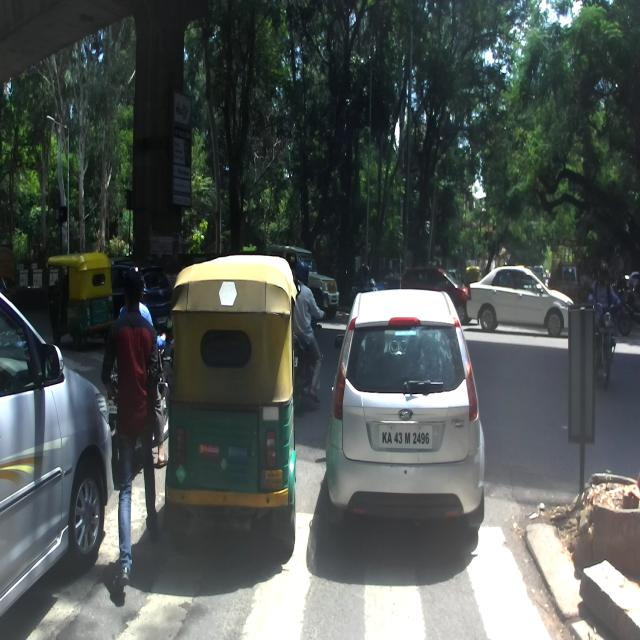auto ahead at: (170, 259, 298, 548)
car ahead at: (331, 281, 489, 542), (0, 285, 114, 636)
person ahead at: (98, 271, 163, 597)
